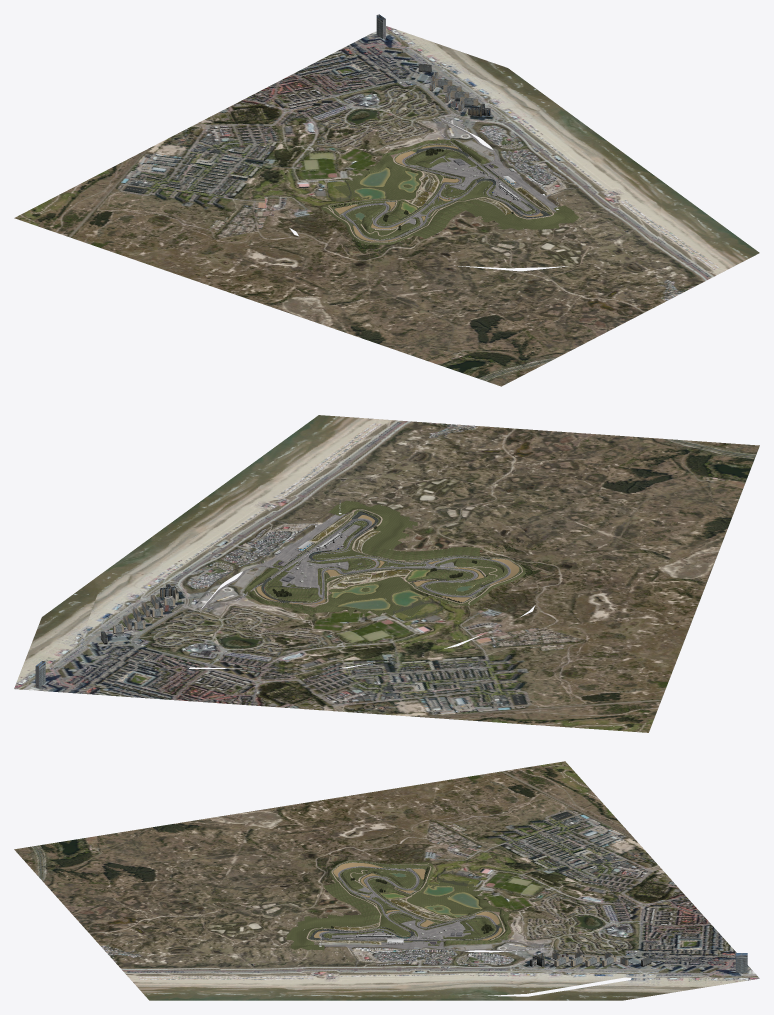
Rendered from circuit_zandvoort_2023_layout-optimized-optimized.glb.
3 renders of one model, top to bottom at view 1: azimuth 30°, elevation 25°; view 2: azimuth 150°, elevation 25°; view 3: azimuth 270°, elevation 25°, orthographic. The views are drawn at different scales.
Visible parts, largest first — view 1: zandvoort_f1_0; view 2: zandvoort_f1_0; view 3: zandvoort_f1_0.
Part boxes in pixels (x1,y1,x2,y2): zandvoort_f1_0: (14,14,759,386); zandvoort_f1_0: (14,415,759,732); zandvoort_f1_0: (14,761,759,1000).
Bounding box in the file's own units: 2674 × 103 × 3519.
Materials: 100 (93 with a texture image).
